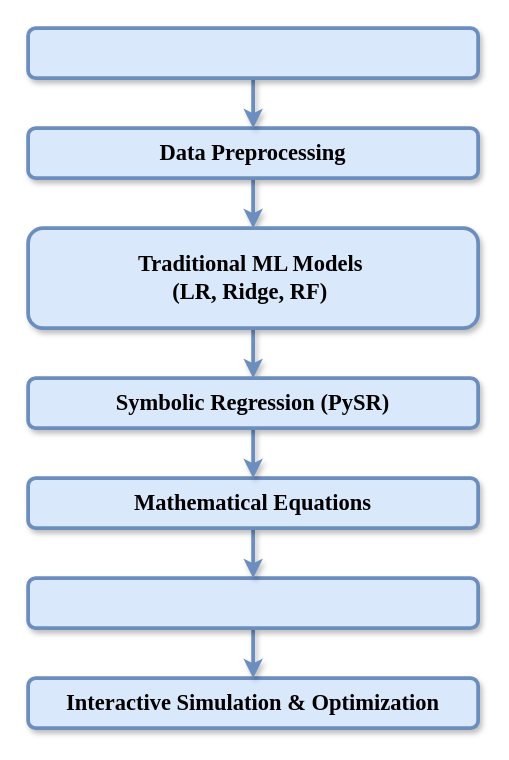
Image size: 509x760. Some labels were removed from this diagram. The shapes that lost their labels are listed below. From the top down, each one's centre as x and y in pixels, then its label:
At [254,54]: "Energy Efficiency Dataset".
At [254,604]: "Model Evaluation".
